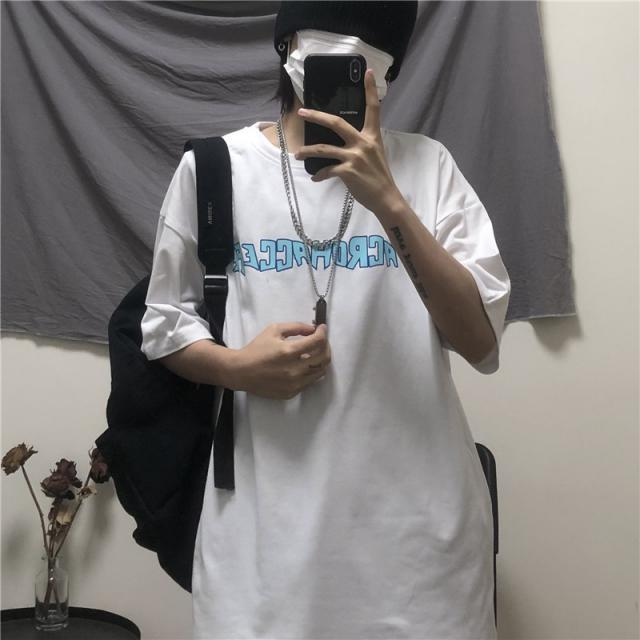Shirt: (136, 120, 523, 639)
